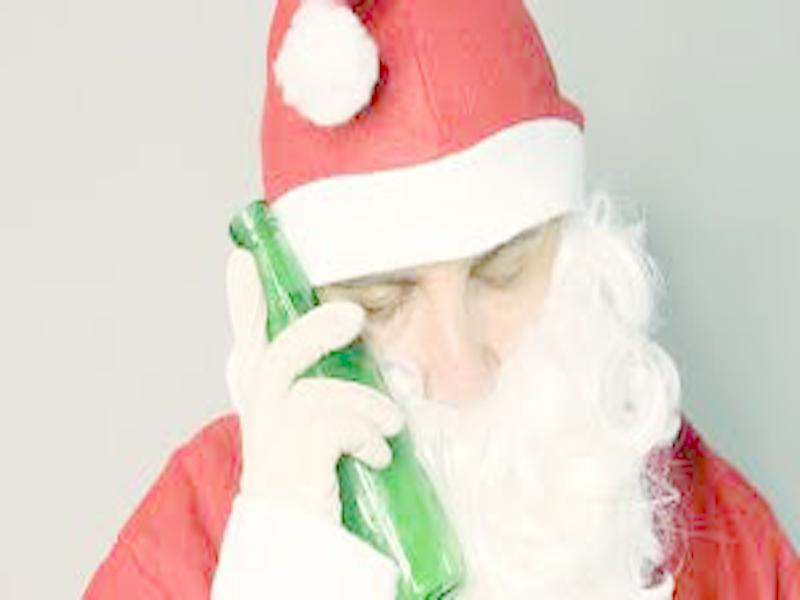Beer: (226, 204, 460, 600)
